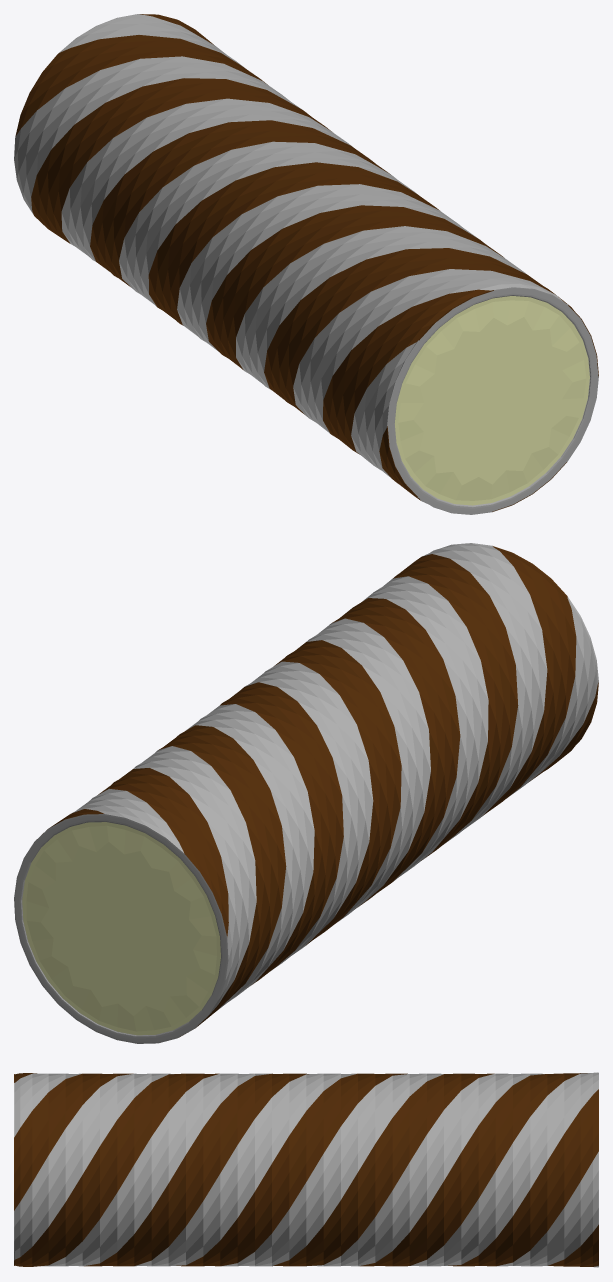
File: Wand.fbx
3 views of the same model, one above another, from view 1: azimuth 30°, elevation 25°; view 2: azimuth 150°, elevation 25°; view 3: azimuth 270°, elevation 25° (orthographic). The views are drawn at different scales.
Parts seen in each view (by area): view 1: Cylinder; view 2: Cylinder; view 3: Cylinder.
Boxes of the visible parts, x1,y1,x2,y2 form: Cylinder: (14,14,598,514); Cylinder: (14,543,598,1043); Cylinder: (14,1072,598,1267).
Bounding box in the file's own units: 1 × 1 × 3.
